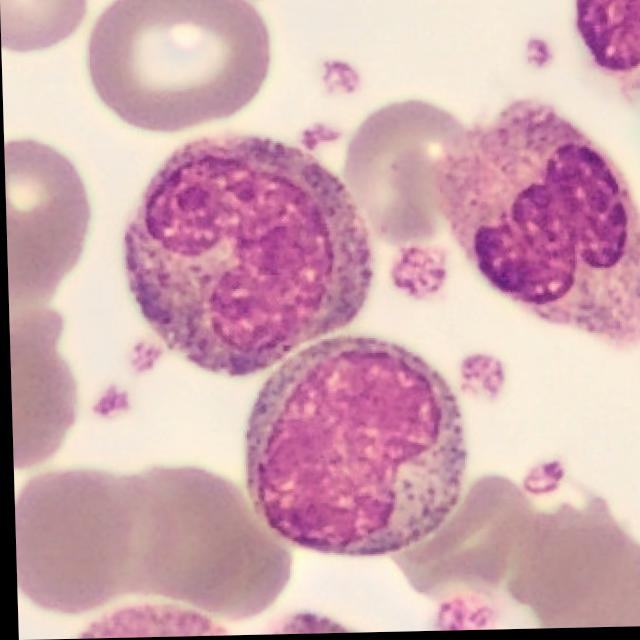Metamielocito: (242, 335, 465, 558)
